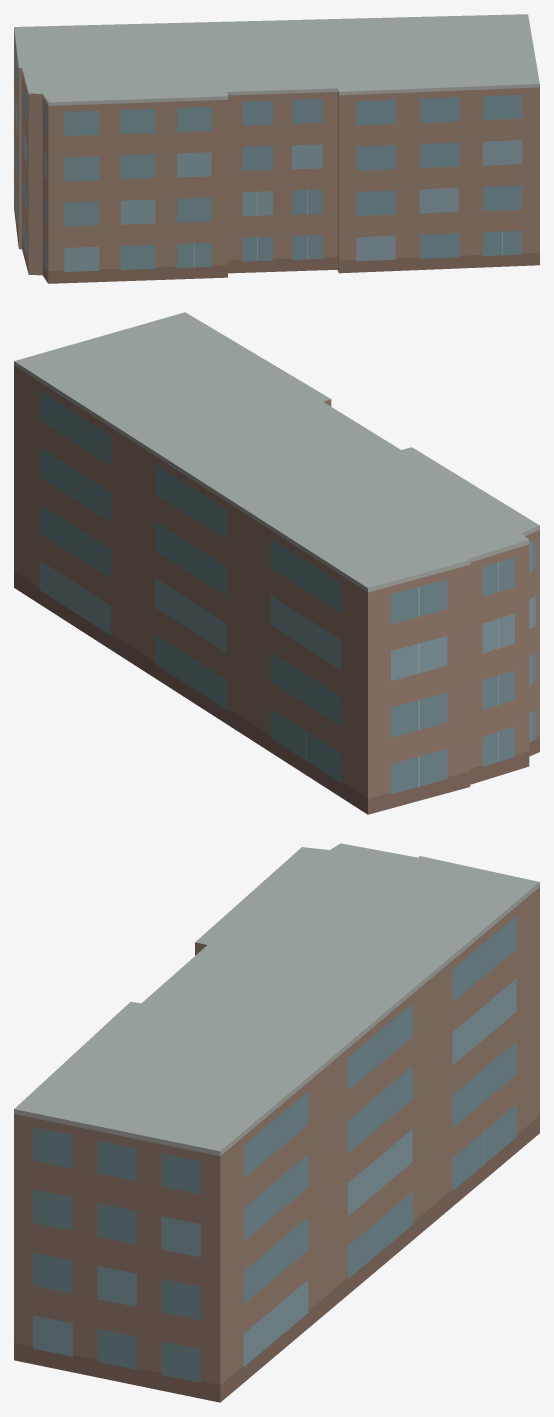
The model's file is survey-upis-32629520.glb.
3 renders of one model, top to bottom at view 1: azimuth 30°, elevation 25°; view 2: azimuth 150°, elevation 25°; view 3: azimuth 270°, elevation 25°, orthographic. The views are drawn at different scales.
Parts seen in each view (by area): view 1: survey-upis-32629520.tmp; view 2: survey-upis-32629520.tmp; view 3: survey-upis-32629520.tmp.
Part boxes in pixels (x1=…): survey-upis-32629520.tmp: x1=14, y1=14, x2=539, y2=283; survey-upis-32629520.tmp: x1=14, y1=312, x2=539, y2=814; survey-upis-32629520.tmp: x1=14, y1=843, x2=539, y2=1402.
Bounding box in the file's own units: 33.42 × 12.7 × 24.1.
